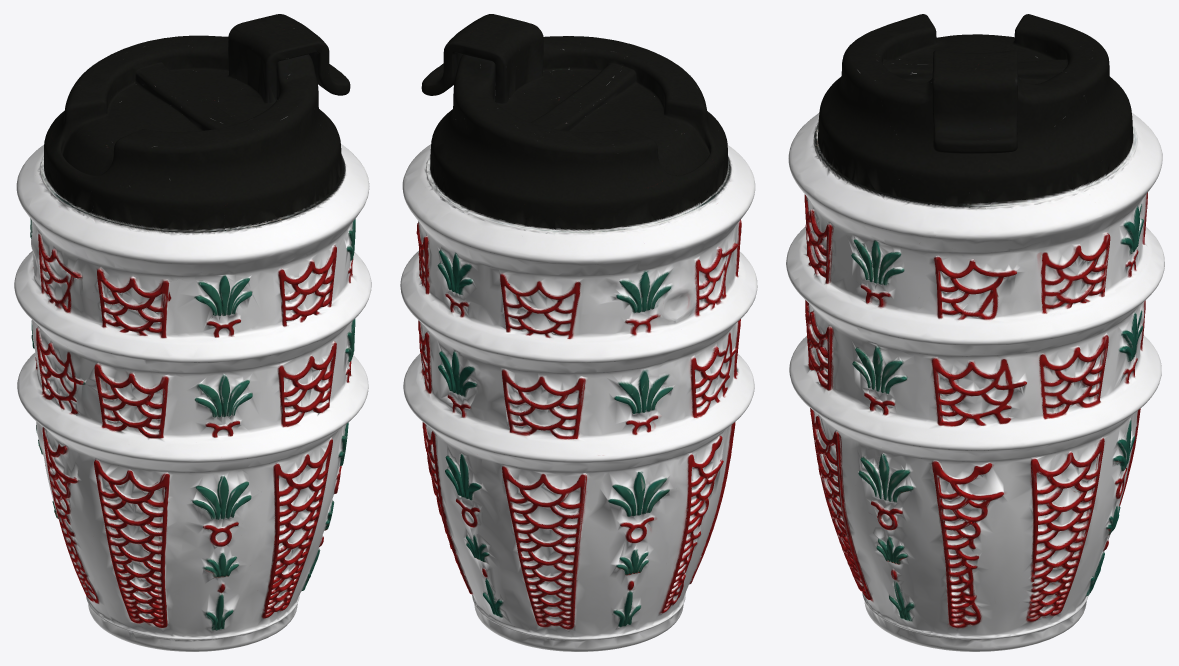
Rendered from 20-المق-الملون.glb.
3 renders of one model, left to right at view 1: azimuth 30°, elevation 25°; view 2: azimuth 150°, elevation 25°; view 3: azimuth 270°, elevation 25°, orthographic. The views are drawn at different scales.
Size of the model in its own units: 1.11 by 1.9 by 1.11.
1 material, 1 textured.
